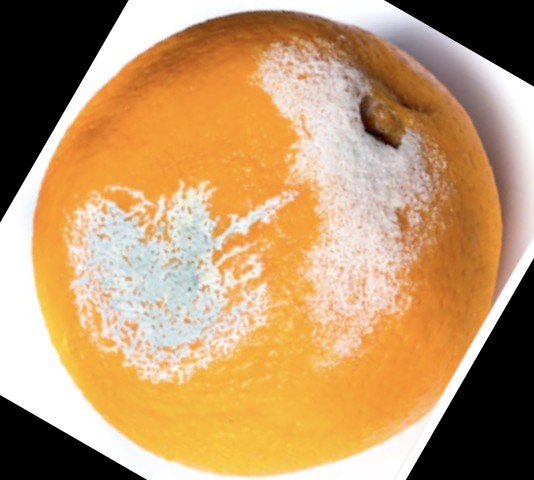rotten_orange: (34, 10, 503, 477)
